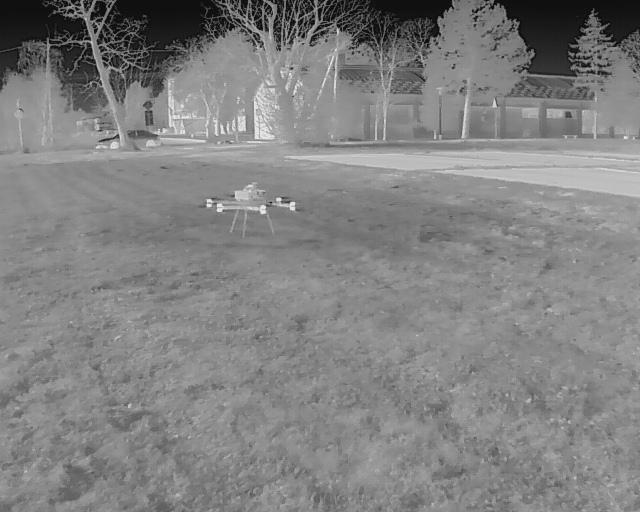drone: (202, 182, 300, 234)
